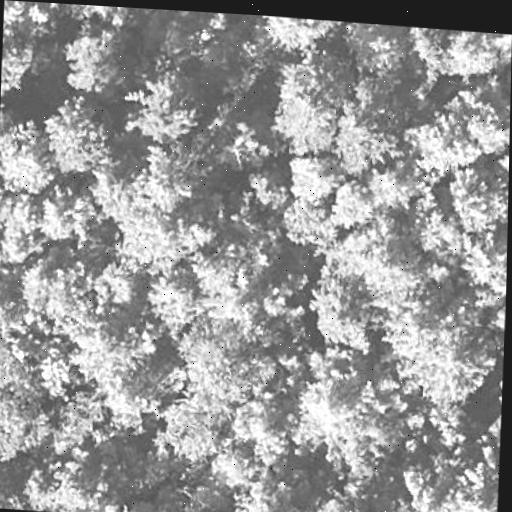tree-top: (382, 287, 503, 402), (103, 162, 210, 276), (326, 224, 455, 311), (68, 331, 174, 430), (285, 367, 388, 463), (178, 228, 272, 330), (329, 71, 409, 179), (181, 316, 273, 408), (32, 269, 134, 351), (269, 51, 349, 153), (21, 448, 148, 512), (36, 92, 116, 187), (305, 268, 382, 365), (398, 442, 500, 512), (406, 103, 490, 186), (0, 0, 68, 101), (116, 72, 204, 146), (61, 23, 135, 104), (402, 26, 505, 83), (158, 391, 228, 466), (0, 107, 54, 201), (442, 157, 509, 230), (407, 190, 469, 268), (137, 261, 204, 332), (446, 84, 511, 157), (0, 383, 54, 463), (280, 147, 346, 212), (337, 22, 410, 80), (274, 190, 340, 251), (40, 183, 98, 252), (252, 15, 346, 55), (236, 395, 292, 462), (0, 186, 45, 269), (52, 386, 109, 450), (0, 328, 46, 398), (360, 160, 418, 215), (231, 473, 301, 512), (326, 183, 377, 235), (483, 253, 507, 362), (294, 483, 380, 512), (0, 271, 35, 340), (240, 172, 283, 215), (71, 4, 127, 32), (495, 129, 510, 207), (0, 467, 24, 510), (493, 364, 504, 455), (486, 33, 512, 64)
